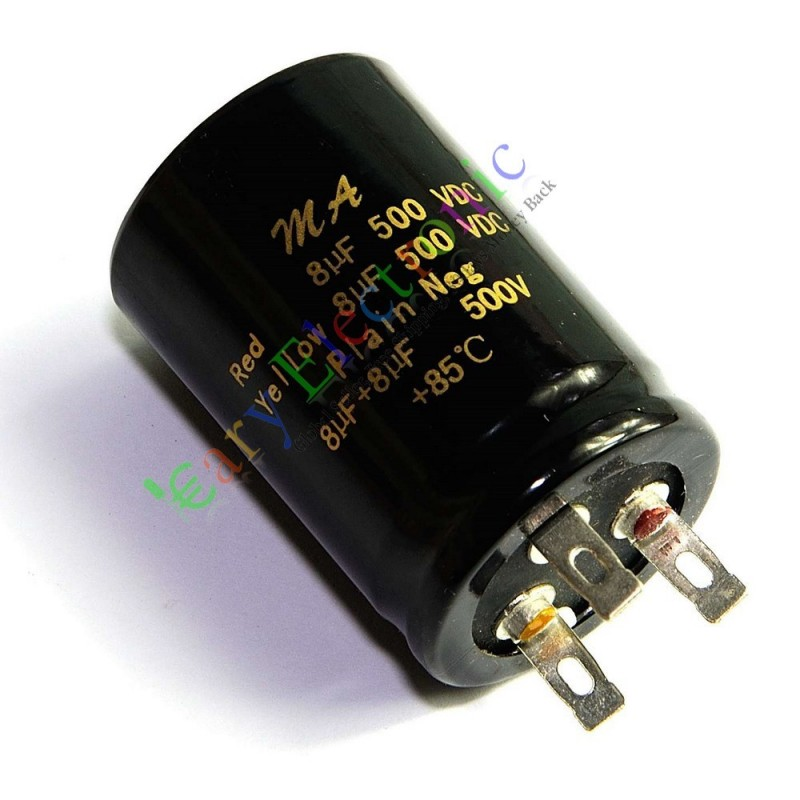capacitor: (73, 26, 768, 731)
